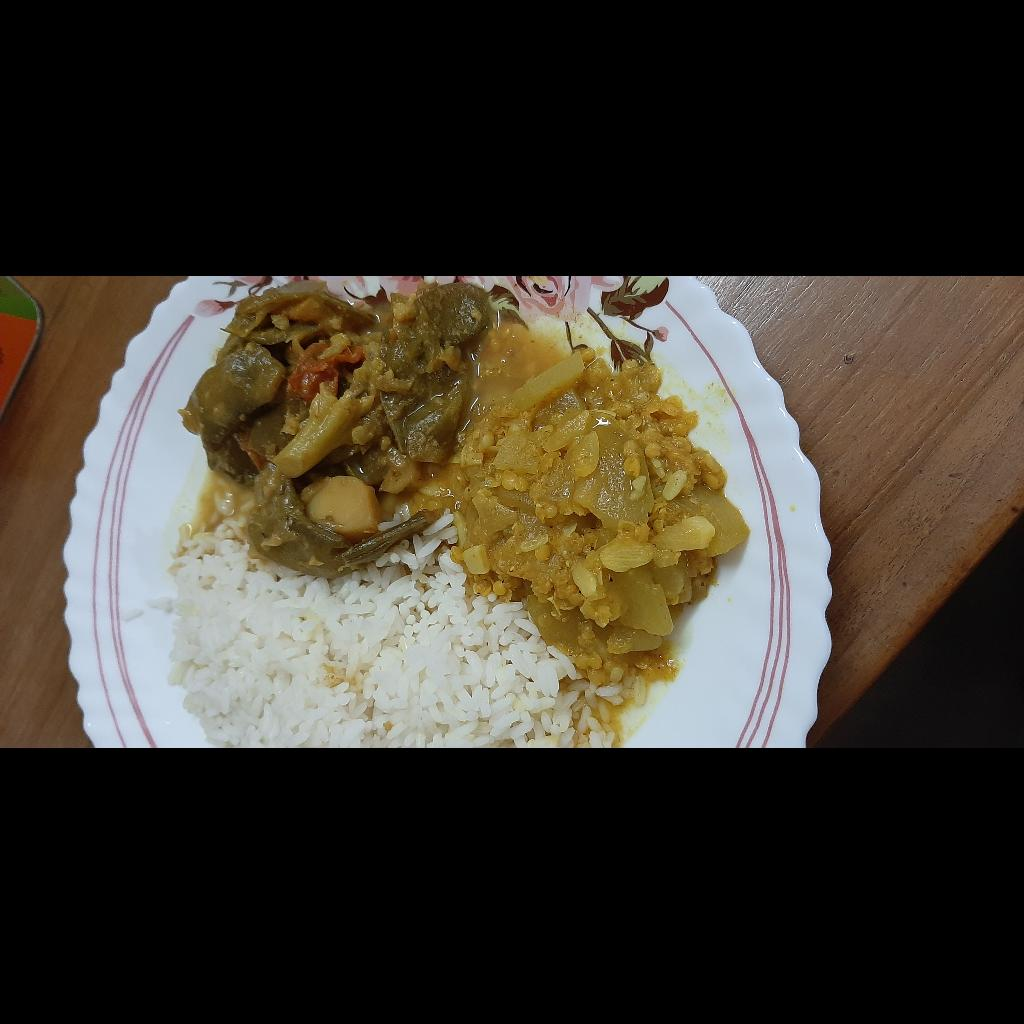daal: (243, 862, 391, 1000), (208, 727, 343, 857)
lau: (67, 738, 408, 1024)
rice: (0, 397, 254, 911)
vegetable: (170, 454, 472, 848)
